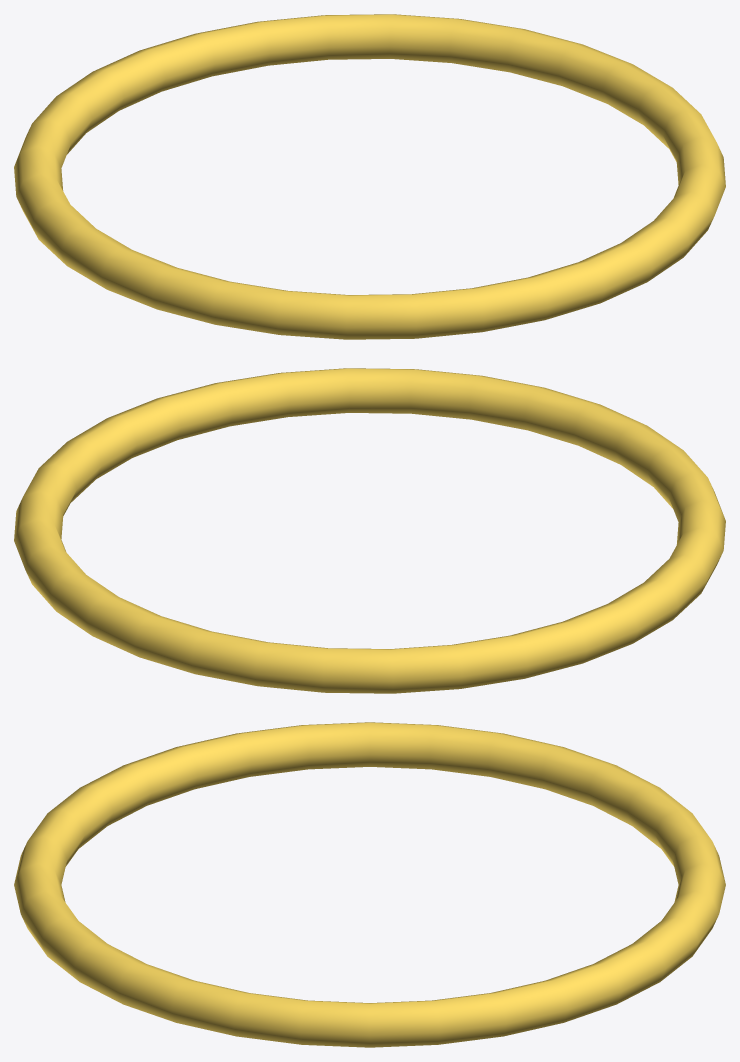
The model's file is halo-gold.glb.
The picture shows the model from 3 angles, top to bottom: view 1: azimuth 30°, elevation 25°; view 2: azimuth 150°, elevation 25°; view 3: azimuth 270°, elevation 25°; orthographic projection.
Visible parts, largest first — view 1: Halo; view 2: Halo; view 3: Halo.
Part boxes in pixels (x1,y1,x2,y2): Halo: (14,14,725,339); Halo: (14,368,725,693); Halo: (14,722,725,1047).
Bounding box in the file's own units: 8.1 × 0.5399 × 8.1.
